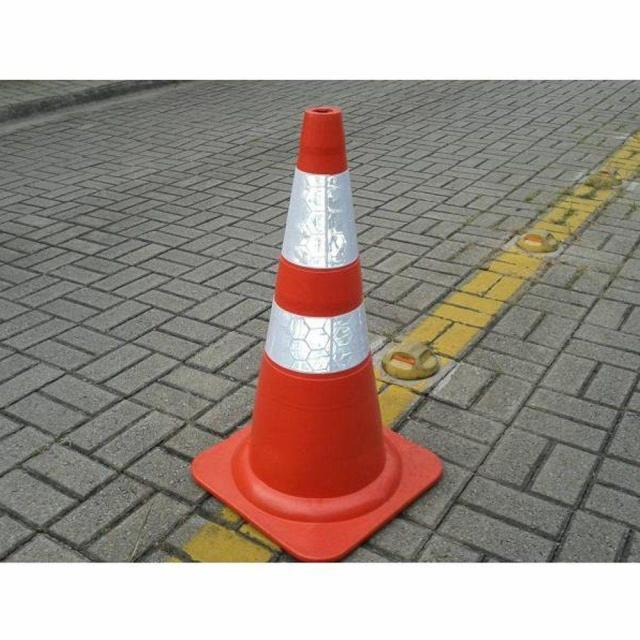Cone: (218, 108, 418, 540)
